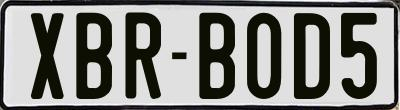0: (245, 12, 281, 101)
5: (341, 10, 378, 99)
B: (198, 13, 239, 104), (75, 11, 117, 98)
D: (294, 12, 331, 100)
R: (122, 9, 161, 97)
X: (31, 13, 67, 104)
